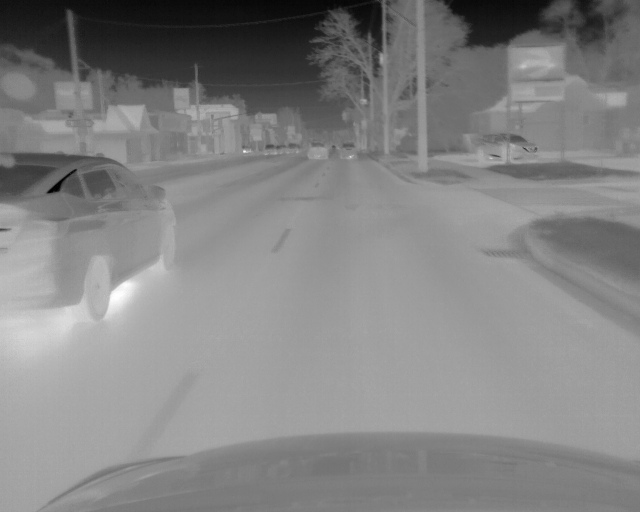car: (1, 154, 179, 324), (474, 131, 539, 162), (307, 141, 329, 161), (337, 142, 357, 159), (263, 144, 277, 156), (287, 143, 300, 154), (277, 145, 287, 155)
